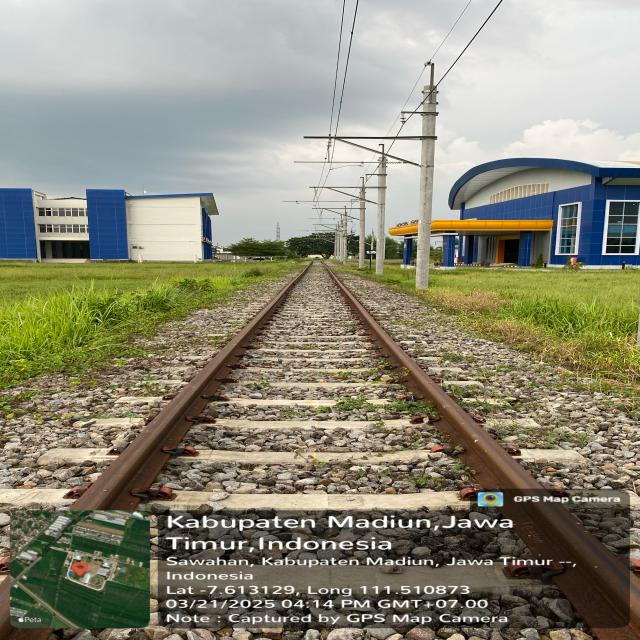rail-detection: (322, 261, 640, 640), (71, 266, 310, 510)
